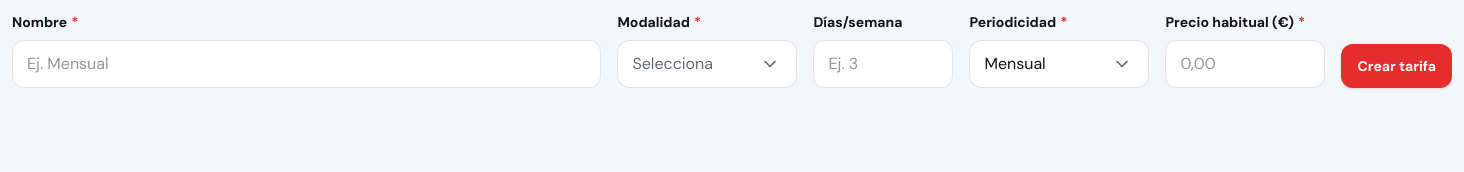
Test case: formularios de condiciones comerciales › usa el selector interno también al administrar una tarifa
The image size is (1464, 172).
expect the dropdown named "Modalidad de la tarifa" reads "Selecciona": met, box [618,40,798,88]
expect the dropdown named "Periodicidad" reads "Mensual": met, box [970,40,1150,88]
Type "-75,50" into the field labelled "Precio habitual (€)" at (1246, 64), box [1166,40,1326,88]
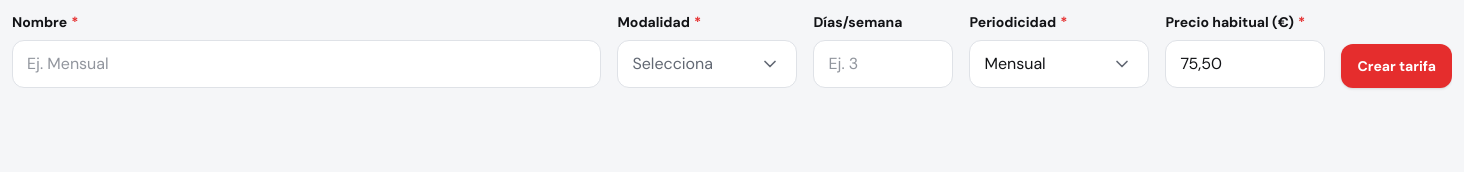
expect the field labelled "Precio habitual (€)" holds "75,50": met, box [1166,40,1326,88]
